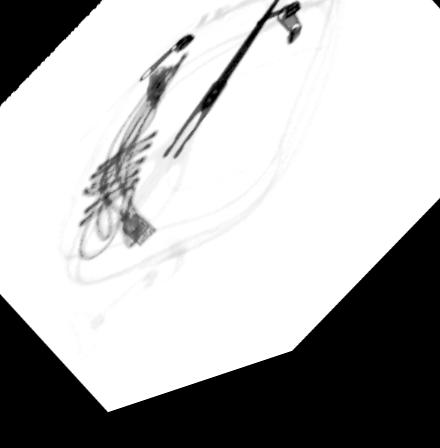Scissors: (93, 0, 292, 258)
